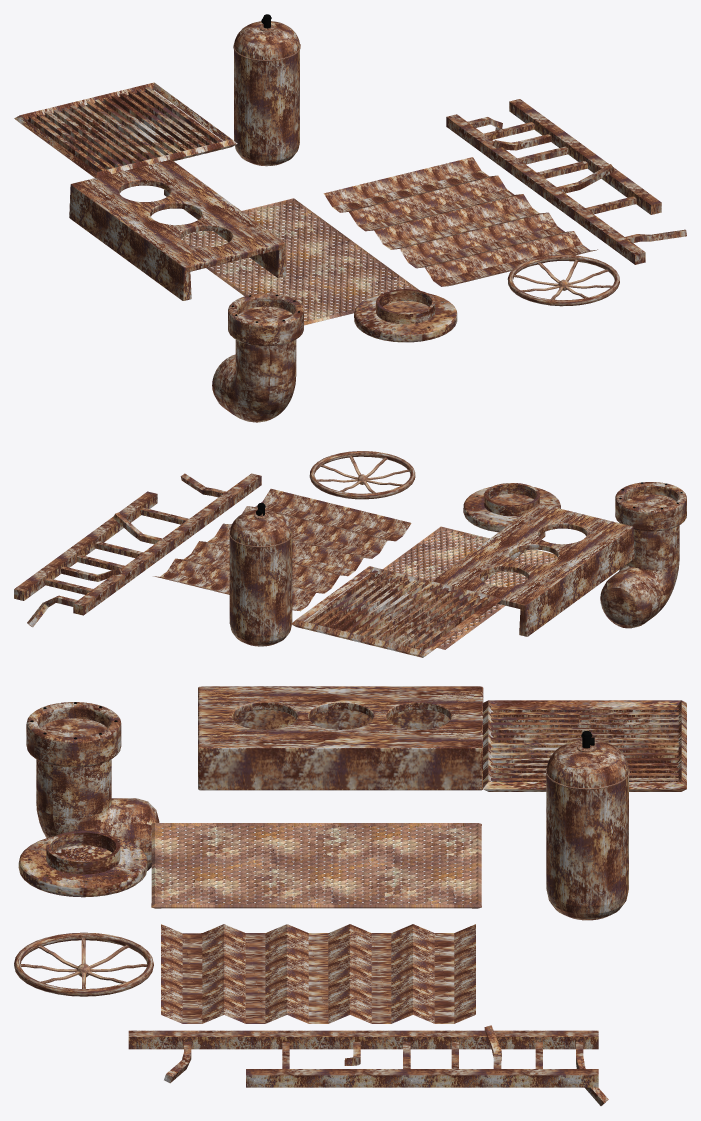
File: Scrap_parts.glb
3 renders of one model, top to bottom at view 1: azimuth 30°, elevation 25°; view 2: azimuth 150°, elevation 25°; view 3: azimuth 270°, elevation 25°, orthographic. The views are drawn at different scales.
Visible parts, largest first — view 1: Plane.003, Plane, Plane.002, Cube, Cube.005, Cylinder.004, Sphere.003, Circle, Cube.002; view 2: Plane, Plane.003, Cube, Cube.005, Sphere.003, Cylinder.004, Plane.002, Circle, Cube.002; view 3: Plane, Plane.003, Plane.002, Cube.005, Cube, Cylinder.004, Sphere.003, Circle, Cube.002.
Boxes of the visible parts, x1,y1,x2,y2 form: Plane.003: (323,157,597,286); Plane: (69,159,286,300); Plane.002: (181,198,419,325); Cube: (14,82,237,177); Cube.005: (446,99,686,264); Cylinder.004: (233,14,300,166); Sphere.003: (212,293,303,422); Circle: (354,289,457,342); Cube.002: (507,255,619,306); Plane: (432,503,634,636); Plane.003: (153,488,411,611); Cube: (291,566,501,657); Cube.005: (14,473,261,627); Sphere.003: (600,482,686,628); Cylinder.004: (229,503,292,646); Plane.002: (383,526,557,649); Circle: (463,483,560,532); Cube.002: (309,451,415,499); Plane: (198,686,483,790); Plane.003: (161,924,475,1023); Plane.002: (151,823,481,908); Cube.005: (128,1025,608,1105); Cube: (483,700,686,791); Cylinder.004: (545,731,629,920); Sphere.003: (26,702,159,870); Circle: (18,830,147,897); Cube.002: (14,932,153,996).
Bounding box in the file's own units: 7.41 × 3.01 × 6.96.
10 materials, 8 textured.
